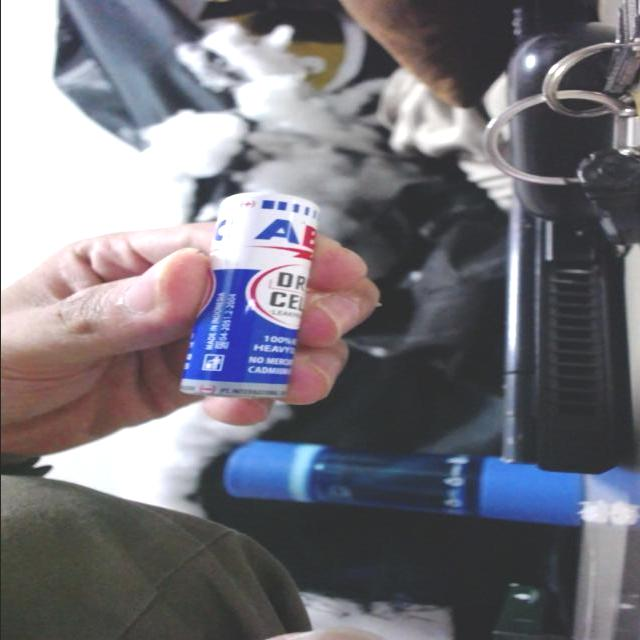AA: (150, 180, 337, 414)
